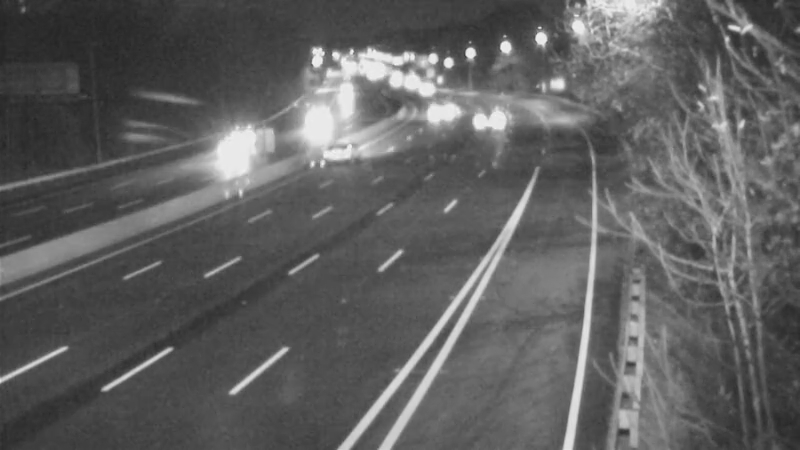vehicle: (183, 114, 263, 194), (415, 77, 465, 127), (460, 93, 510, 143), (321, 124, 371, 174), (292, 102, 342, 152)
